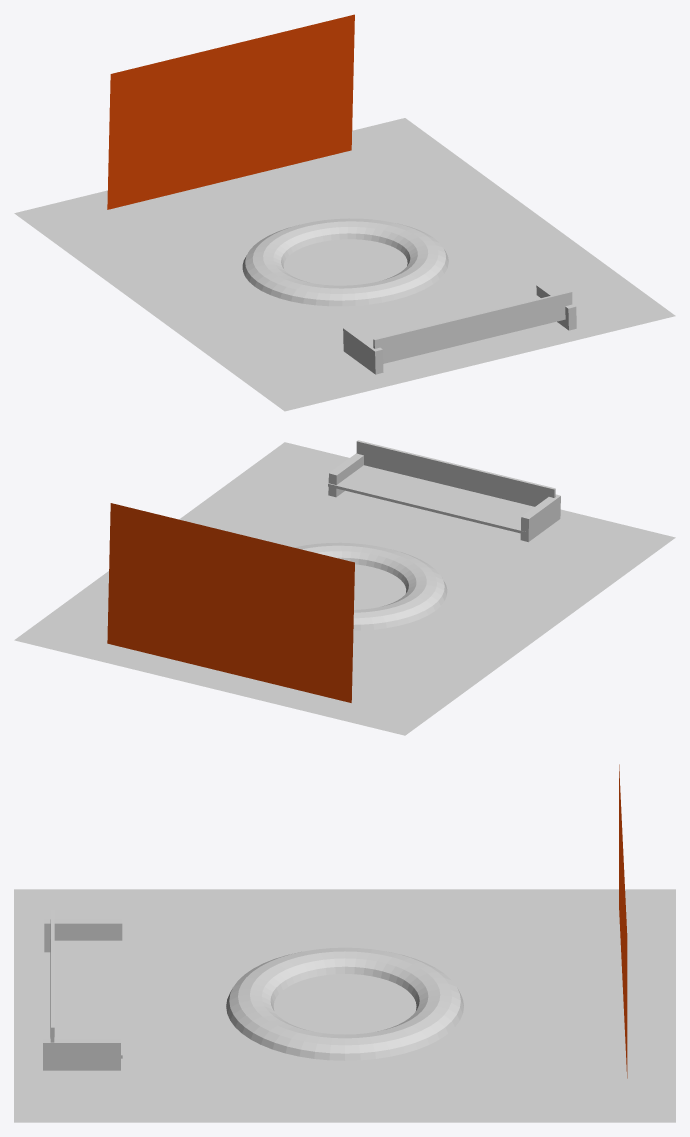
The model's file is cenario.fbx.
3 views of the same model, one above another, from view 1: azimuth 30°, elevation 25°; view 2: azimuth 150°, elevation 25°; view 3: azimuth 270°, elevation 25° (orthographic). The views are drawn at different scales.
Parts seen in each view (by area): view 1: Plane, Plane.002, Torus, Cube.001, Cube.003, Cube; view 2: Plane, Plane.002, Cube, Torus, Cube.001, Cube.003, Cube.002; view 3: Plane, Torus, Cube, Cube.002, Cube.003, Plane.002, Cube.001.
Boxes of the visible parts, x1,y1,x2,y2 form: Plane: (14, 118, 675, 411); Plane.002: (107, 14, 354, 209); Torus: (242, 218, 448, 306); Cube.001: (373, 291, 572, 363); Cube.003: (343, 326, 383, 374); Cube: (365, 294, 540, 341); Plane: (14, 442, 675, 735); Plane.002: (107, 503, 354, 702); Cube: (328, 465, 534, 534); Torus: (294, 542, 447, 630); Cube.001: (356, 440, 555, 506); Cube.003: (520, 494, 560, 542); Cube.002: (328, 453, 363, 497); Plane: (14, 889, 675, 1122); Torus: (226, 947, 463, 1060); Cube: (54, 938, 122, 1058); Cube.002: (43, 1038, 120, 1070); Cube.003: (44, 919, 122, 952); Plane.002: (619, 764, 627, 1078); Cube.001: (50, 910, 54, 1042).
Bounding box in the file's own units: 1536 × 555 × 1842.
